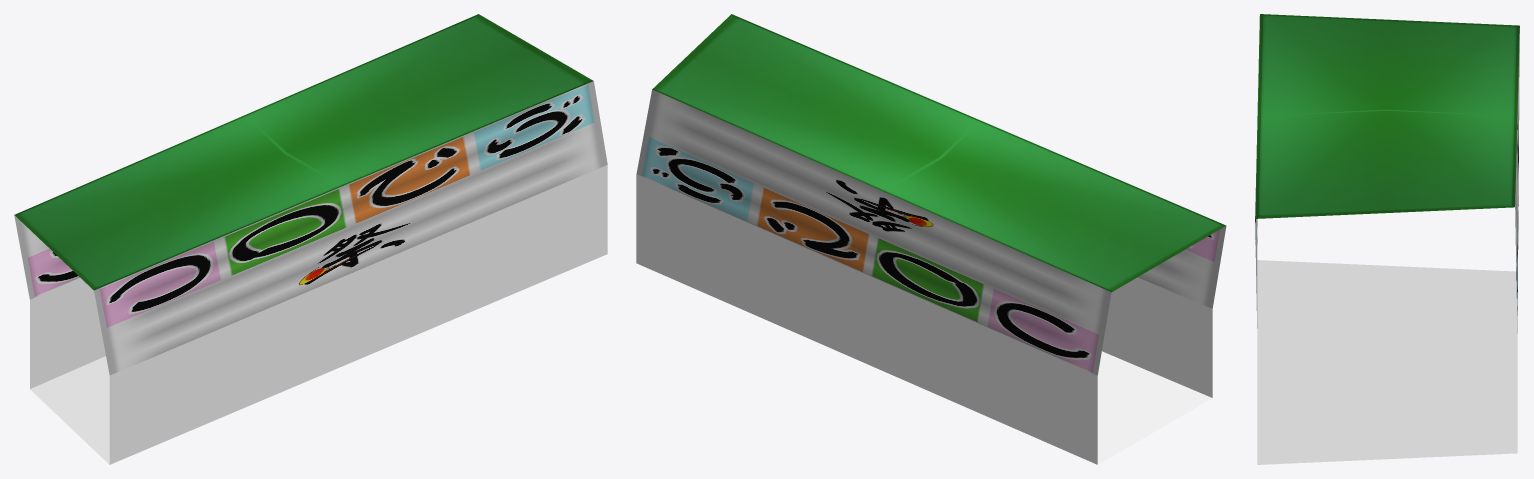
The model's file is CourseWinter_Wall_L_17_8.fbx.
The picture shows the model from 3 angles, left to right: view 1: azimuth 30°, elevation 25°; view 2: azimuth 150°, elevation 25°; view 3: azimuth 270°, elevation 25°; orthographic projection. The views are drawn at different scales.
Visible parts, largest first — view 1: polySurface612; view 2: polySurface612; view 3: polySurface612.
Part boxes in pixels (x1=…): polySurface612: x1=14, y1=14, x2=607, y2=464; polySurface612: x1=636, y1=14, x2=1226, y2=464; polySurface612: x1=1255, y1=14, x2=1519, y2=464.
Size of the model in its own units: 6.01 by 2.98 by 2.01.
Materials: 1 (1 with a texture image).
